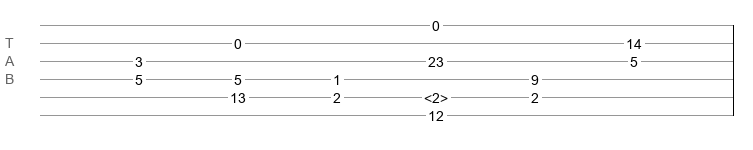0: (234, 36, 242, 46), (432, 18, 440, 28)
1: (333, 72, 341, 82)
12: (428, 108, 444, 118)
13: (230, 90, 246, 100)
14: (626, 36, 642, 46)
2: (333, 90, 341, 100), (531, 90, 539, 100)
23: (428, 54, 444, 64)
3: (135, 54, 143, 64)
5: (135, 72, 143, 82), (234, 72, 242, 82), (630, 54, 638, 64)
9: (531, 72, 539, 82)
harmonic: (424, 90, 448, 100)
